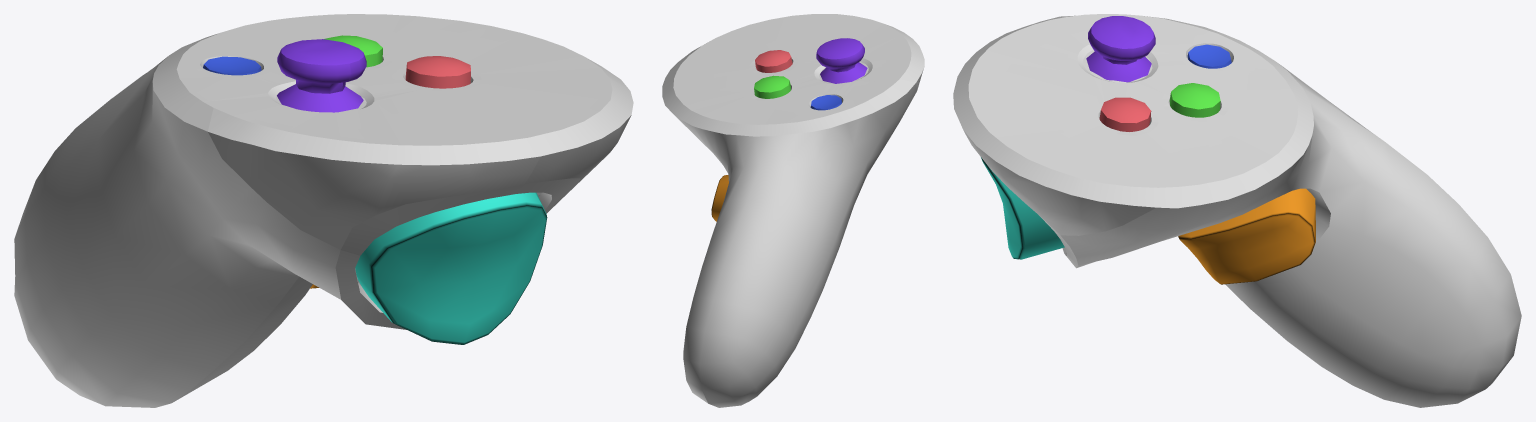
The model's file is RightController.fbx.
The picture shows the model from 3 angles, left to right: view 1: azimuth 30°, elevation 25°; view 2: azimuth 150°, elevation 25°; view 3: azimuth 270°, elevation 25°; orthographic projection. The views are drawn at different scales.
Parts seen in each view (by area): view 1: right_quest2_mesh; view 2: right_quest2_mesh; view 3: right_quest2_mesh.
Part boxes in pixels (x1,y1,x2,y2): right_quest2_mesh: [14, 14, 633, 407]; right_quest2_mesh: [662, 14, 924, 407]; right_quest2_mesh: [953, 14, 1521, 407].
Bounding box in the file's own units: 7.13 × 8.19 × 11.11.
